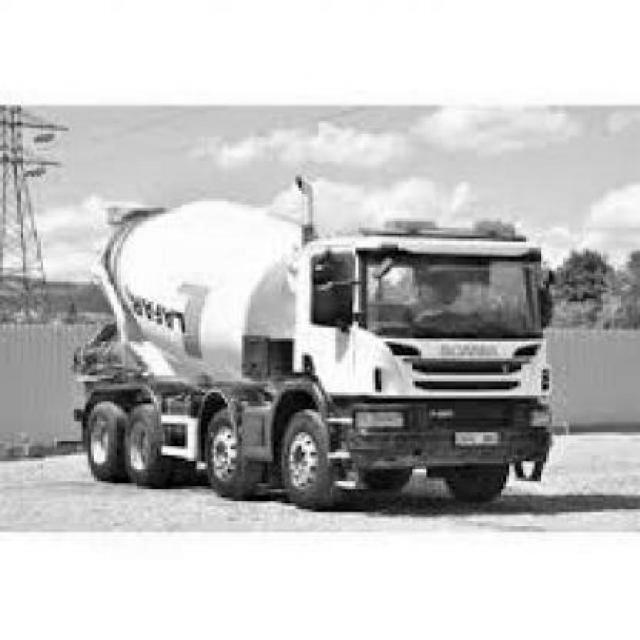Concrete Mixer: (72, 178, 554, 512)
